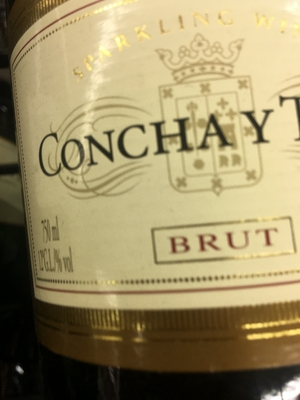brut: (14, 7, 300, 393)
